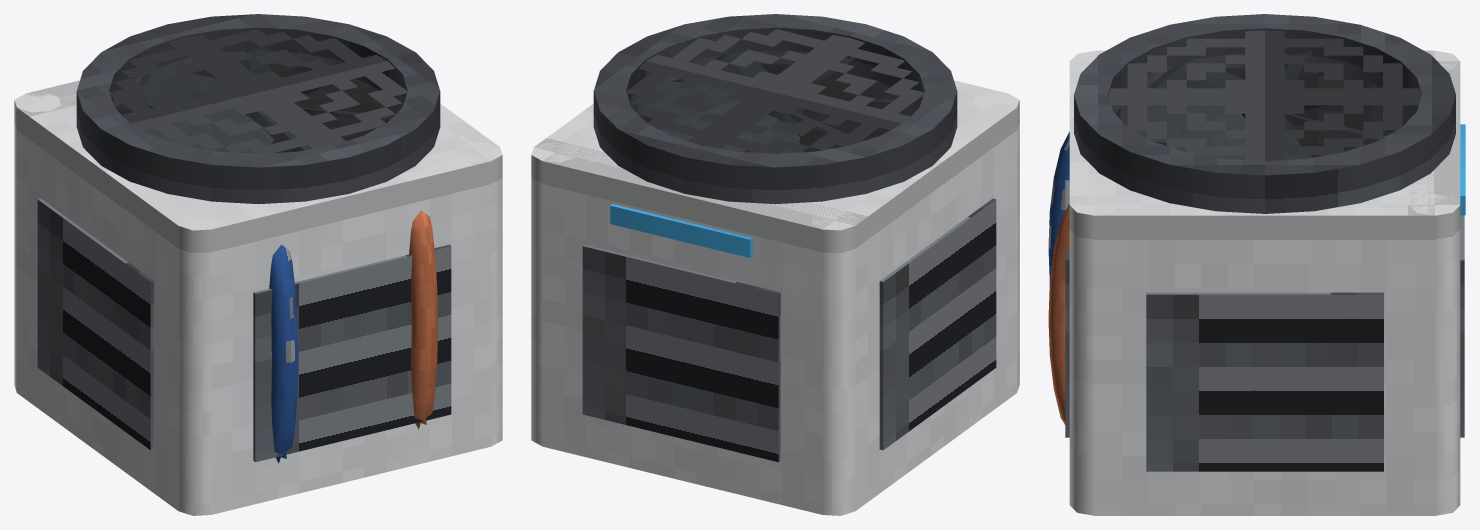
File: cooling_unit.obj
3 views of the same model, side by side, from view 1: azimuth 30°, elevation 25°; view 2: azimuth 150°, elevation 25°; view 3: azimuth 270°, elevation 25° (orthographic). The views are drawn at different scales.
Size of the model in its own units: 0.9572 by 0.8961 by 1.
